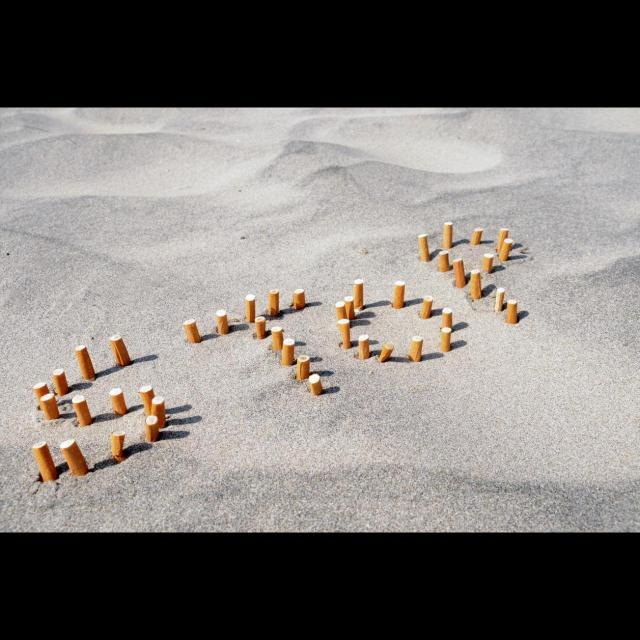cigarette: (60, 439, 89, 477), (32, 441, 58, 483), (74, 345, 96, 381), (109, 335, 131, 366), (72, 395, 92, 427), (40, 393, 60, 421), (111, 430, 127, 462), (140, 385, 156, 416), (33, 382, 50, 411), (109, 388, 127, 415), (52, 368, 69, 396), (152, 396, 166, 428), (183, 319, 201, 343), (337, 319, 351, 349), (453, 258, 466, 289), (145, 415, 159, 442), (470, 270, 482, 301), (409, 336, 423, 362), (378, 341, 395, 362), (281, 339, 294, 366), (296, 355, 310, 380), (393, 281, 405, 309), (418, 234, 430, 262), (216, 310, 229, 335), (499, 238, 513, 261), (358, 335, 370, 360), (440, 327, 452, 352), (353, 279, 363, 309), (271, 327, 283, 351), (497, 228, 509, 252), (269, 288, 279, 316), (421, 296, 433, 319), (309, 374, 322, 395), (335, 301, 348, 322), (443, 222, 453, 249), (255, 316, 266, 340), (442, 308, 453, 332), (246, 294, 255, 323), (293, 289, 305, 310), (345, 296, 355, 321), (507, 299, 517, 324), (482, 254, 494, 274), (495, 288, 505, 312), (439, 250, 449, 272), (471, 228, 483, 245)
